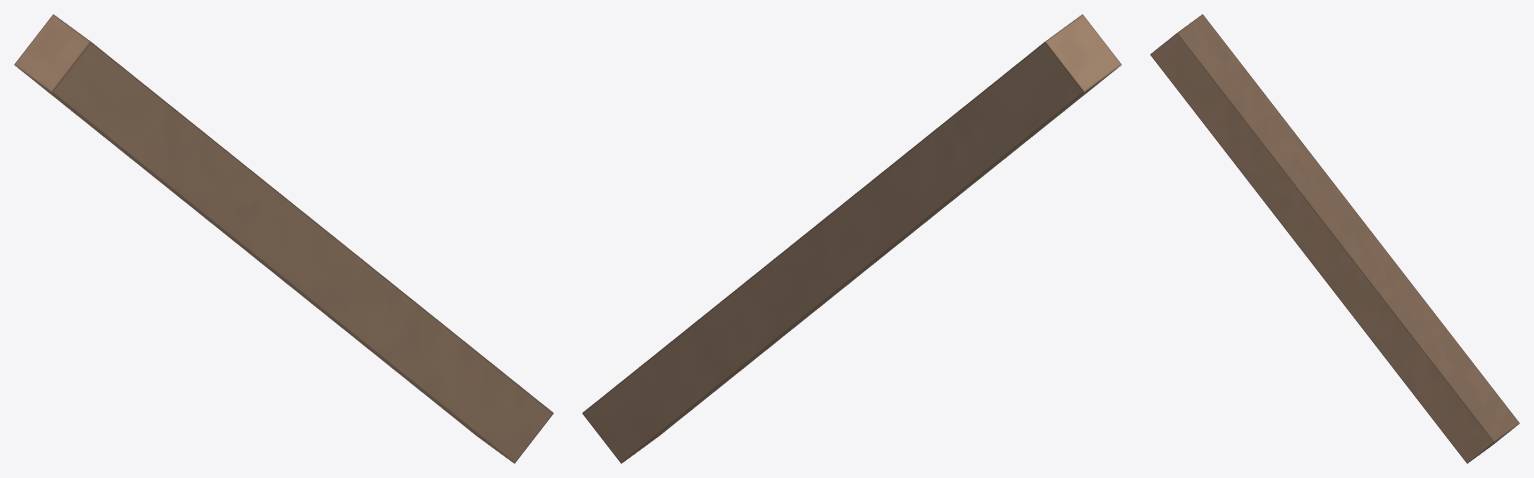
3 renders of one model, left to right at view 1: azimuth 30°, elevation 25°; view 2: azimuth 150°, elevation 25°; view 3: azimuth 330°, elevation 25°, orthographic. The views are drawn at different scales.
Parts seen in each view (by area): view 1: part-b; view 2: part-b; view 3: part-b.
Part boxes in pixels (bbox=[...]): part-b: bbox=[14, 14, 553, 463]; part-b: bbox=[582, 14, 1121, 463]; part-b: bbox=[1150, 14, 1519, 463].
Size of the model in its own units: 0.8142 by 0.8142 by 0.1058.
